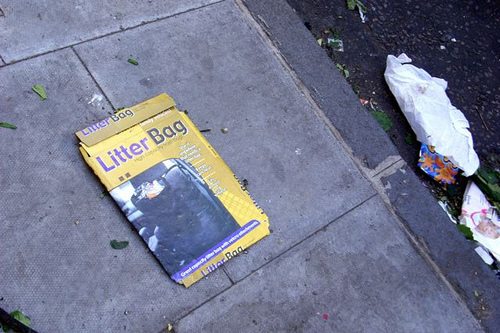litter: (75, 93, 268, 287), (382, 52, 479, 184), (461, 184, 500, 266)
